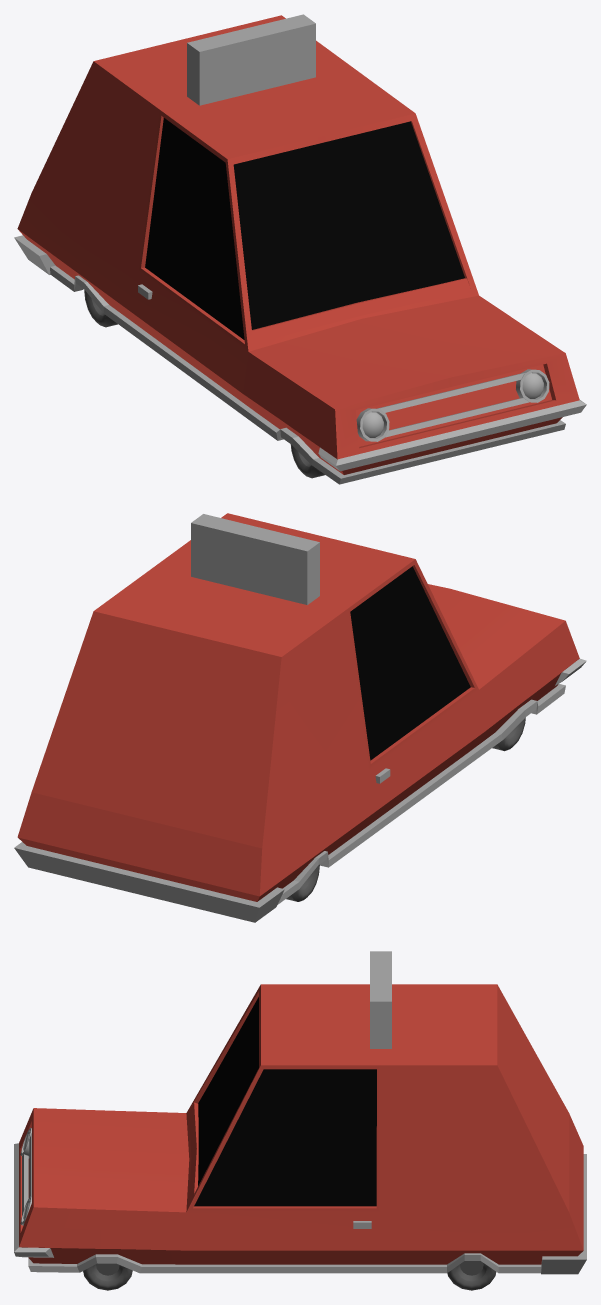
File: car.fbx
3 views of the same model, one above another, from view 1: azimuth 30°, elevation 25°; view 2: azimuth 150°, elevation 25°; view 3: azimuth 270°, elevation 25° (orthographic). The views are drawn at different scales.
Parts seen in each view (by area): view 1: Car2; view 2: Car2; view 3: Car2.
Boxes of the visible parts, x1,y1,x2,y2 form: Car2: (14,14,586,484); Car2: (14,513,586,922); Car2: (14,951,586,1290).
Size of the model in its own units: 172 by 200 by 386.
